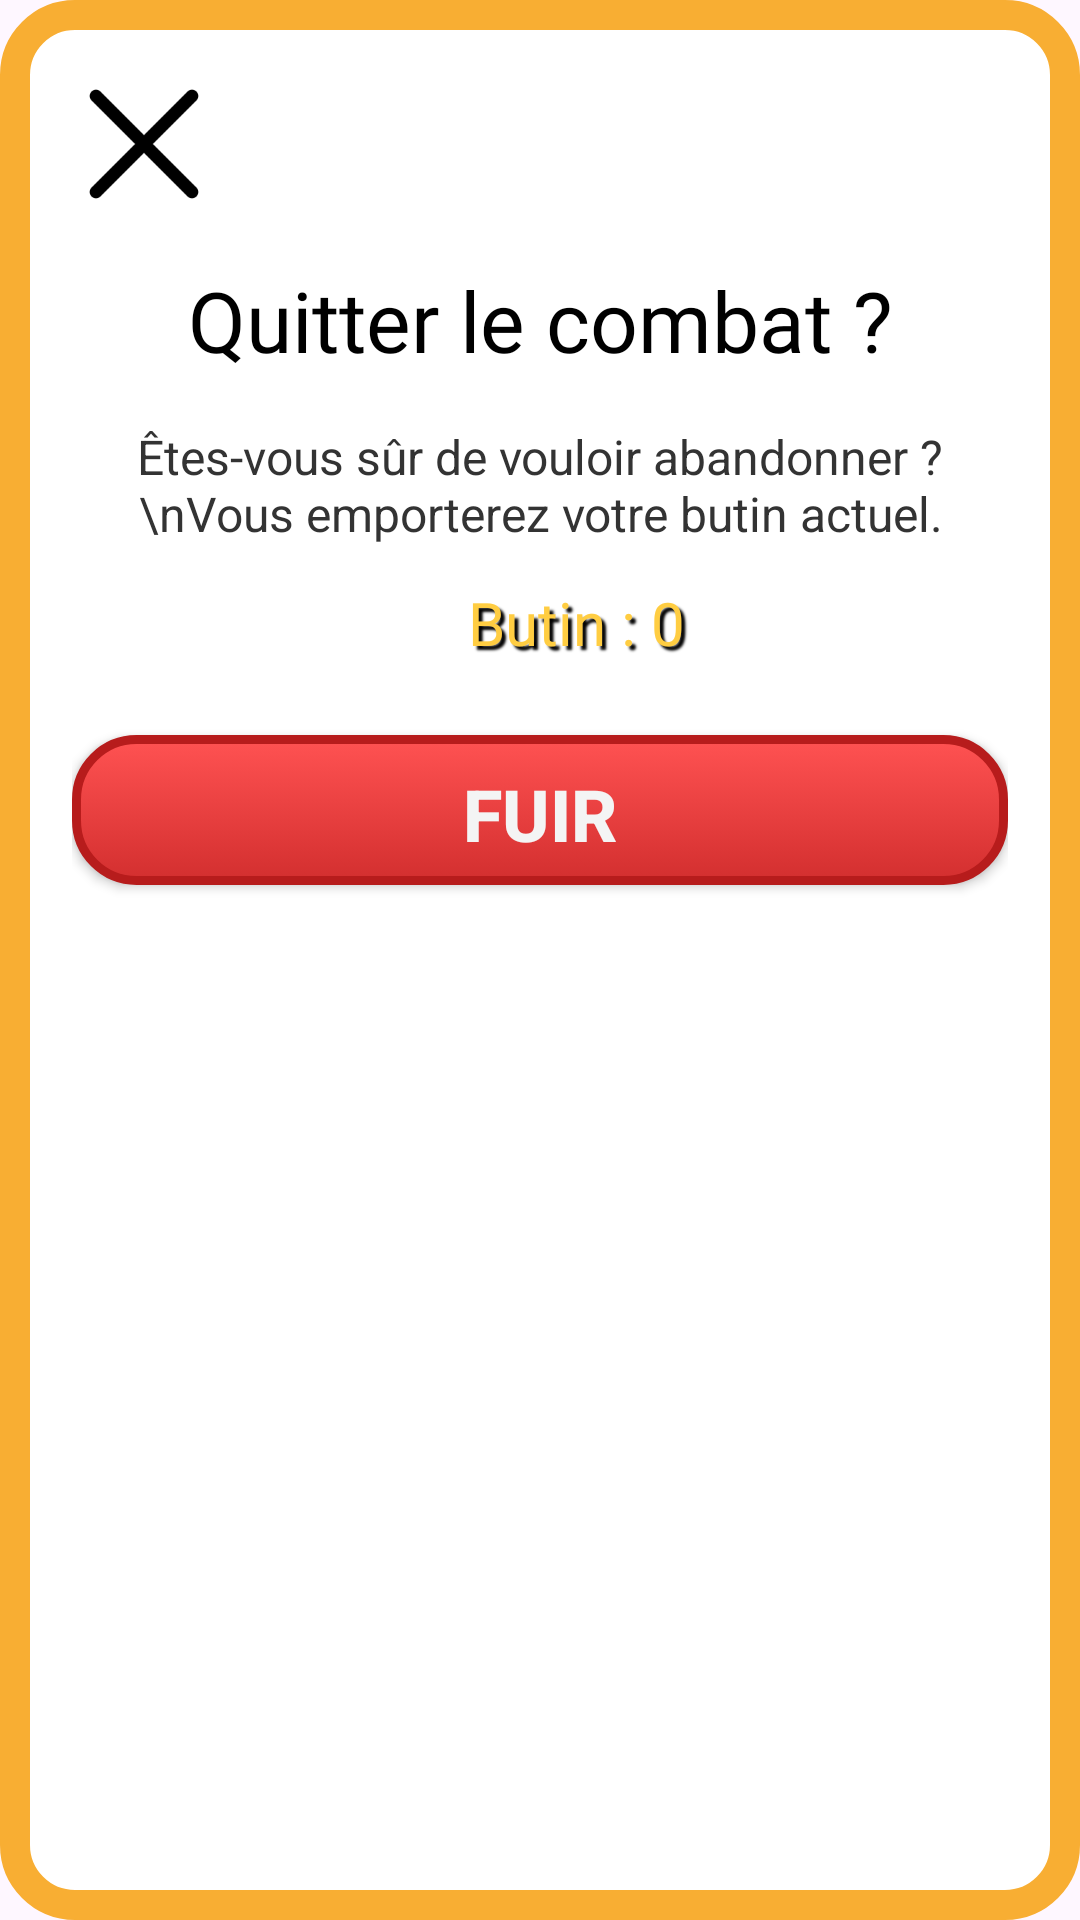

Where to tap for icons on this 1080×1920 app screen, as (x=x, y=y):
cross: (x=144, y=144)
